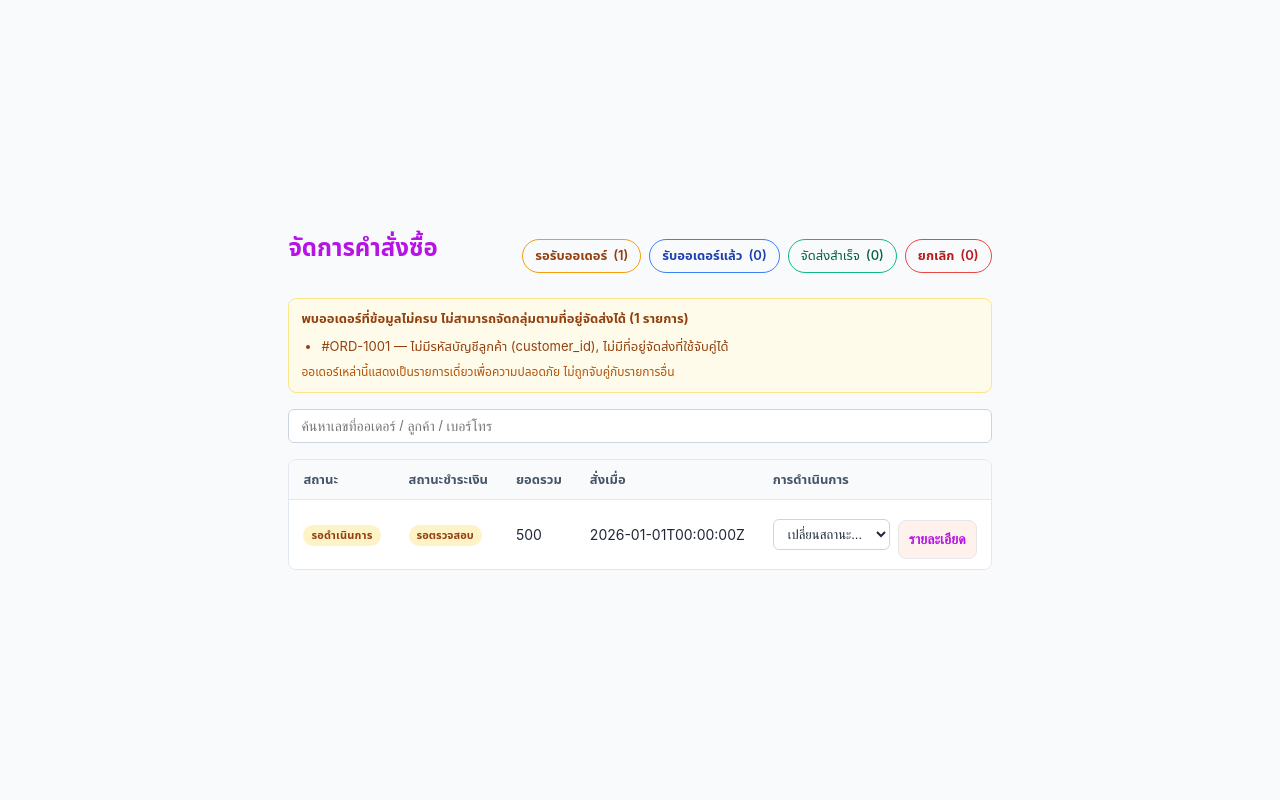
AdminOrders — order detail modal › falls back to table row data when the detail API fails
What coordinates should you click on to do the following:
click the button "รายละเอียด"
I would click on:
 (937, 540)
Its box is [898, 520, 977, 559].
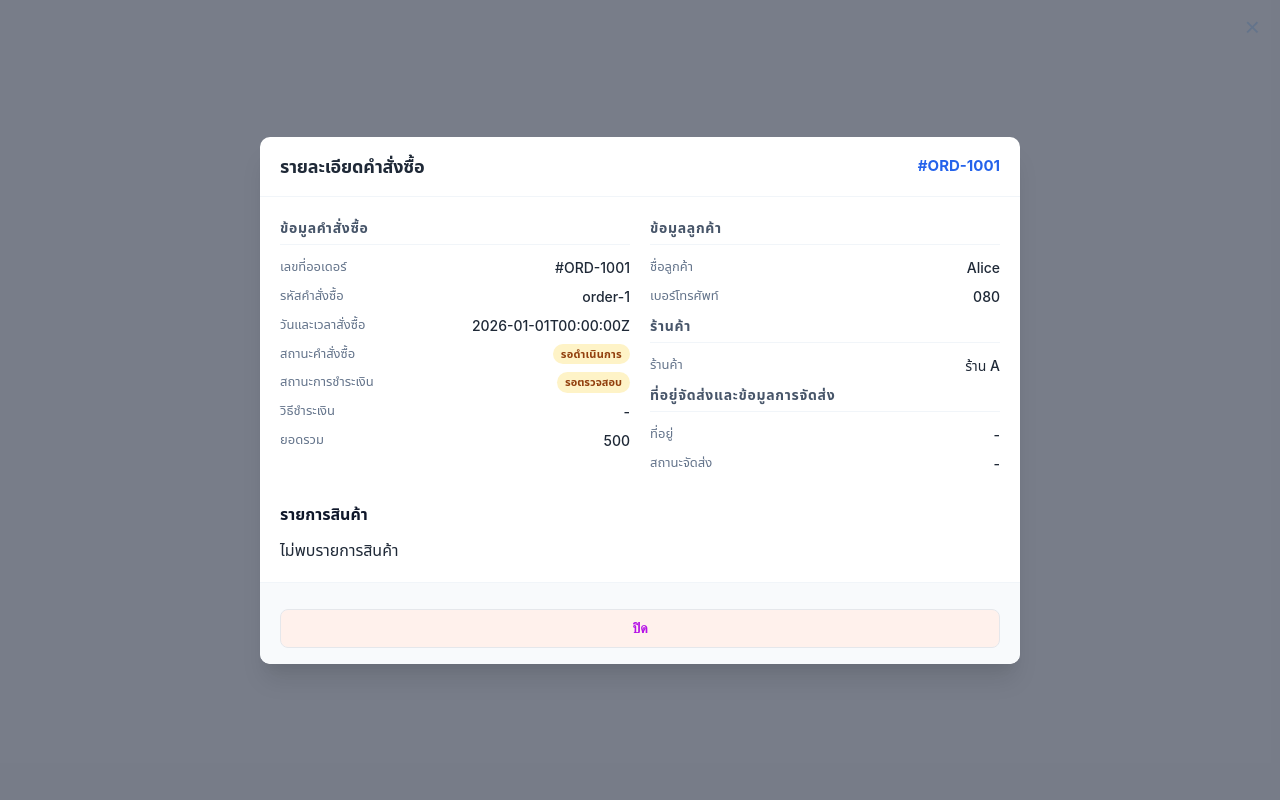
Now the dialog shows "#ORD-1001"
Now the dialog shows "Alice", box [967, 258, 1000, 276]
